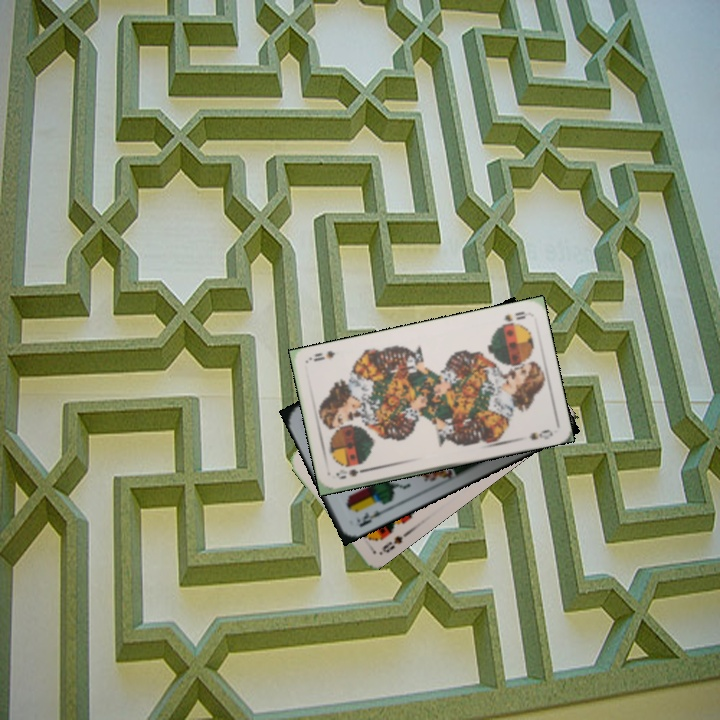EK: (352, 505, 390, 529)
S8: (378, 532, 405, 555)
SO: (332, 464, 371, 482), (497, 307, 530, 328)
